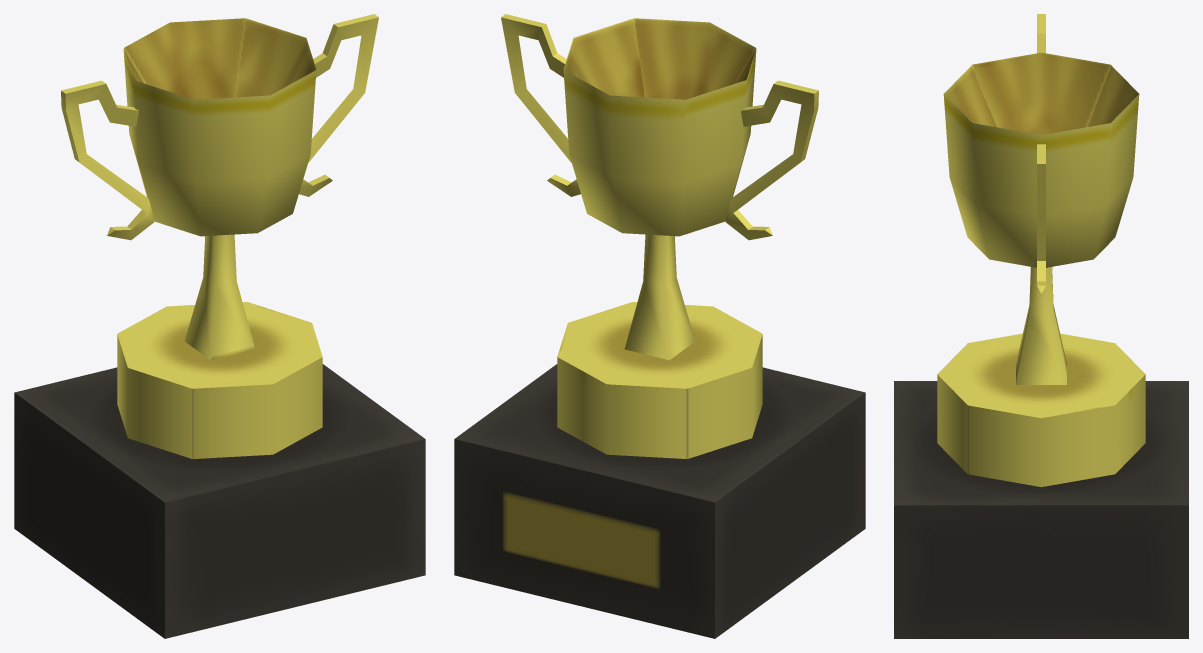
Rendered from ha_h__trophy.glb.
3 views of the same model, side by side, from view 1: azimuth 30°, elevation 25°; view 2: azimuth 150°, elevation 25°; view 3: azimuth 270°, elevation 25° (orthographic). The views are drawn at different scales.
Parts seen in each view (by area): view 1: Object_2; view 2: Object_2; view 3: Object_2.
Part boxes in pixels (x1,y1,x2,y2): Object_2: (14,14,425,638); Object_2: (454,14,865,638); Object_2: (894,14,1188,638).
Bounding box in the file's own units: 3.77 × 5.72 × 3.13.
Materials: 1 (1 with a texture image).
